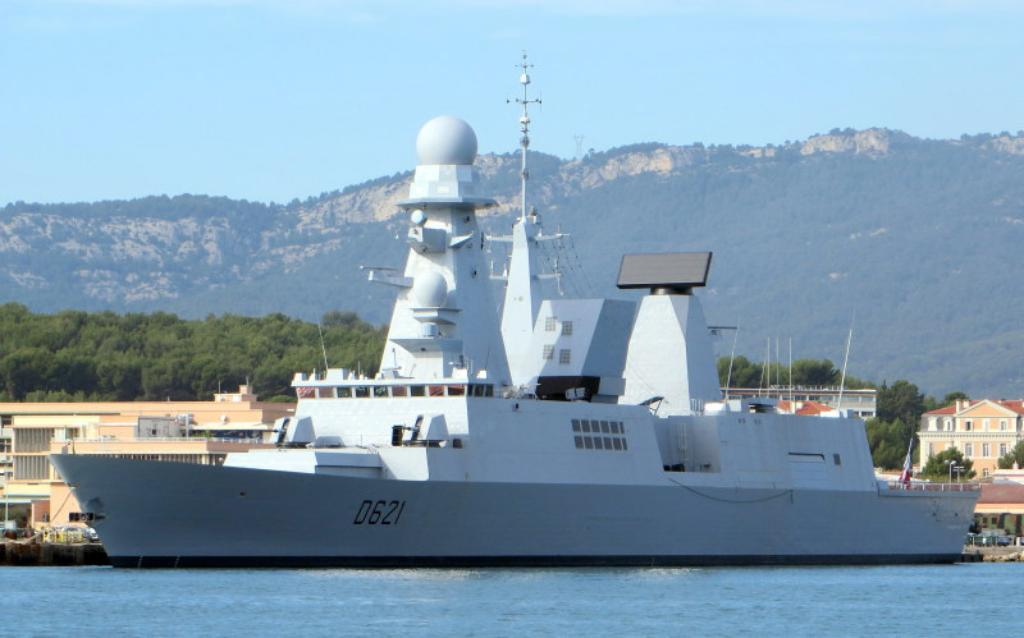Warship: (44, 39, 984, 573)
